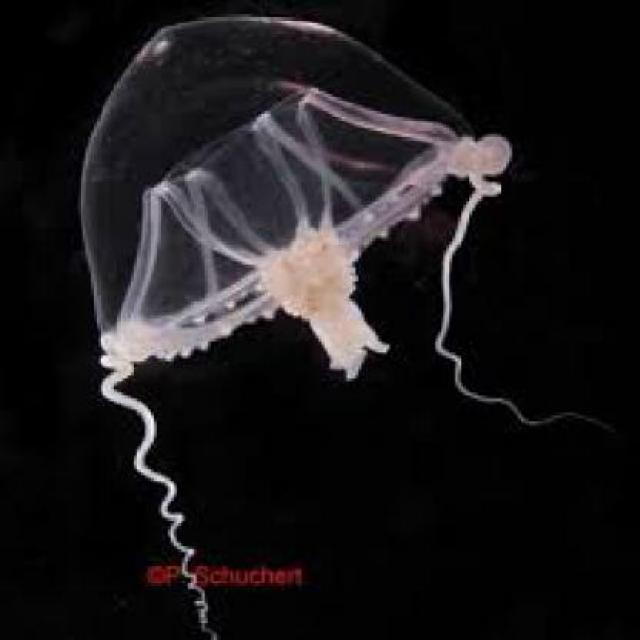Jellyfish: (76, 11, 618, 624)
